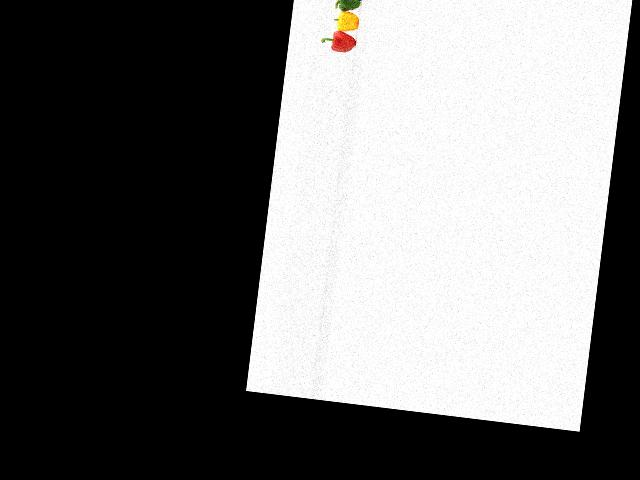bell_pepper: (317, 26, 360, 60)
